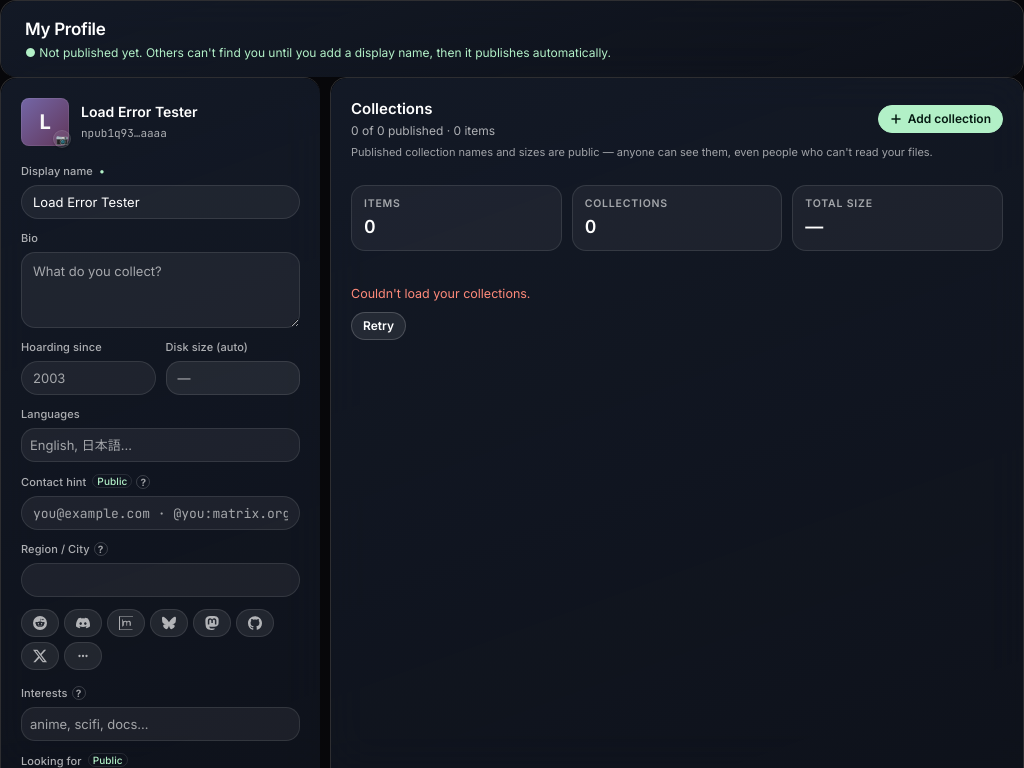
QURATOR-93 — Home collections load failure is not a confident empty › Retry re-fetches: reject → resolve → the list renders and the error is gone
Click the button "Retry" at (378, 326), box [351, 312, 406, 340]
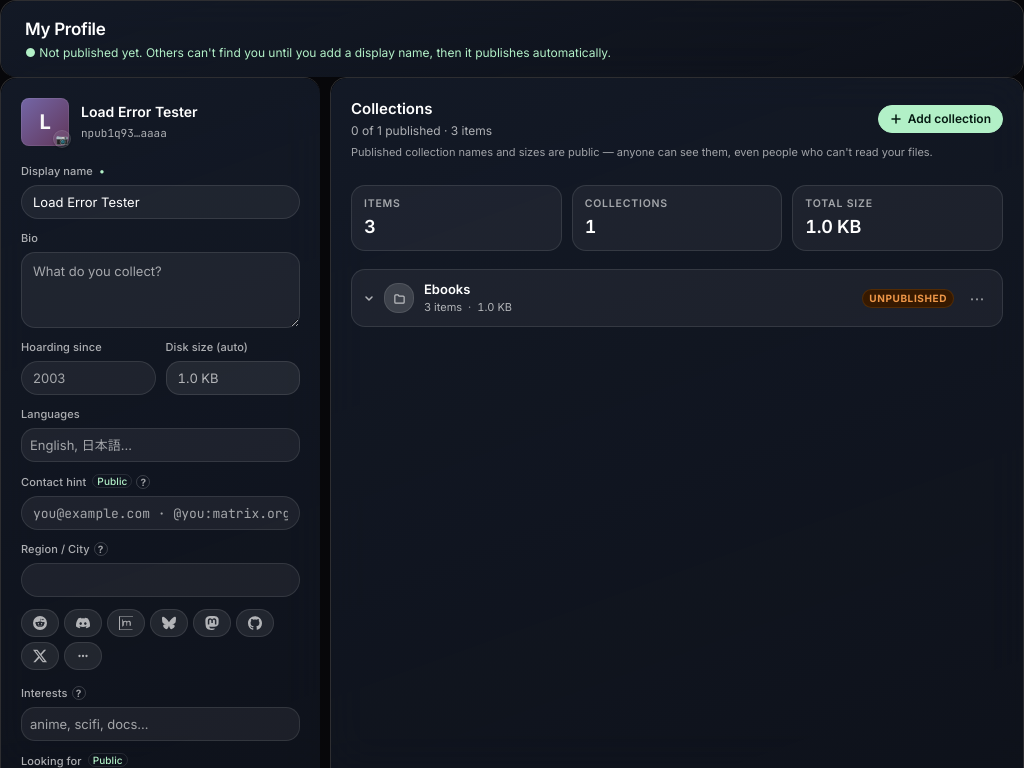
Now the text "Ebooks" is shown, box [424, 281, 470, 297]
Now the message "Couldn't load your collections. Retry" is gone
